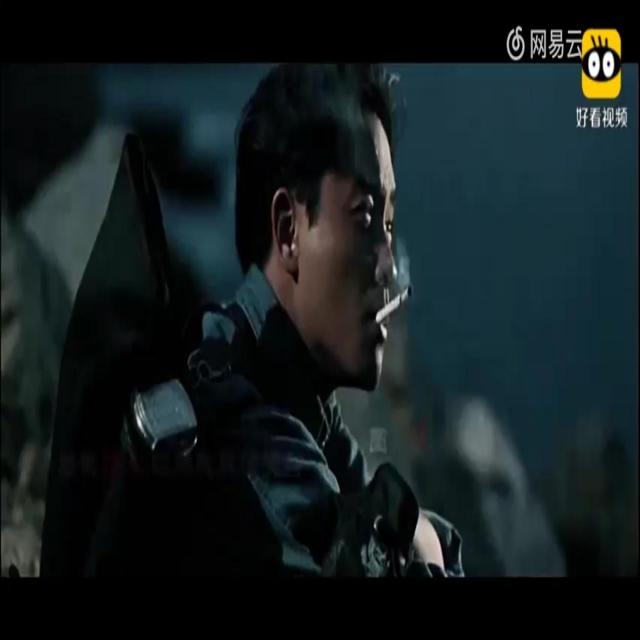Сигарета: (376, 282, 412, 325)
Тело: (80, 64, 460, 578)
